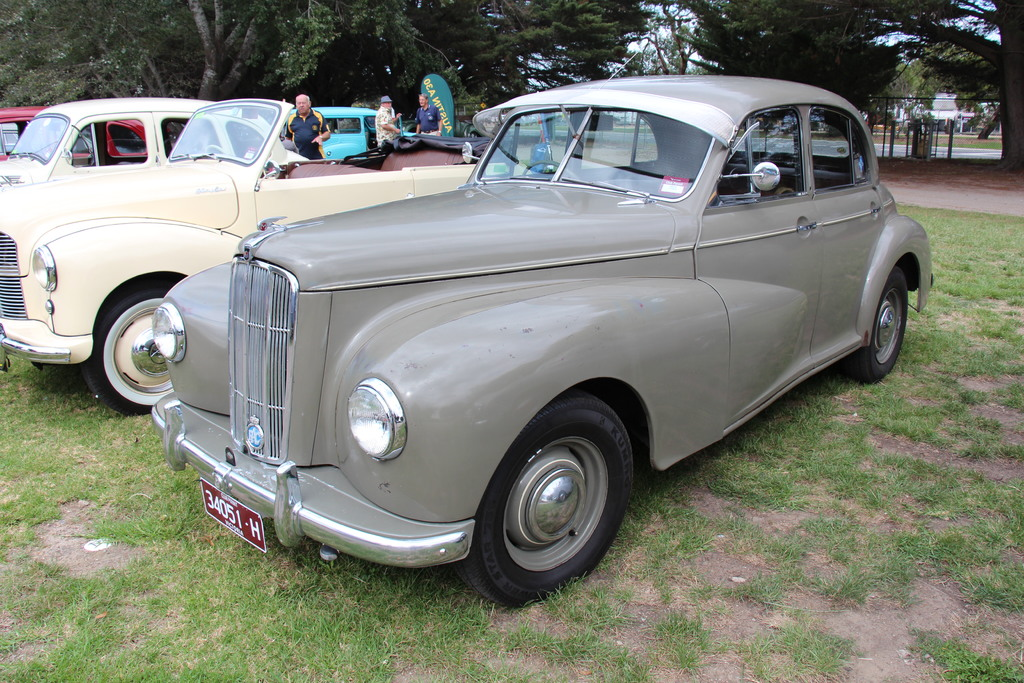cars: (0, 46, 935, 609), (0, 98, 522, 419), (0, 98, 306, 197), (0, 105, 161, 167), (290, 110, 419, 161)
